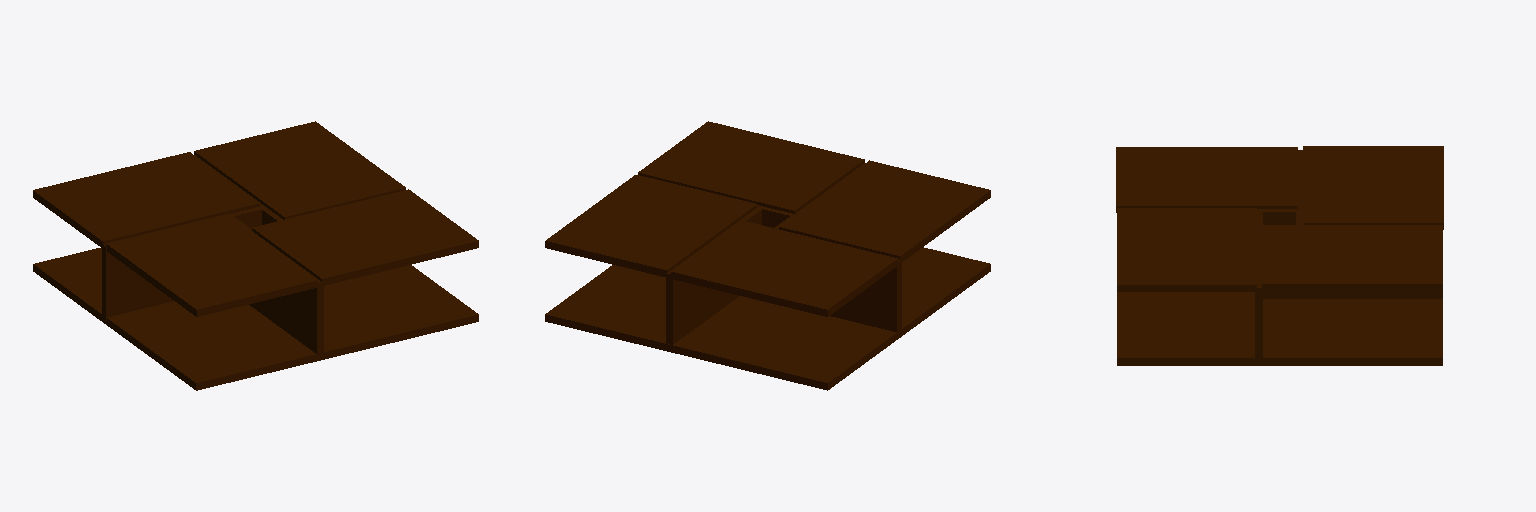
File: table.obj
3 renders of one model, left to right at view 1: azimuth 30°, elevation 25°; view 2: azimuth 150°, elevation 25°; view 3: azimuth 270°, elevation 25°, orthographic.
Parts seen in each view (by area): view 1: Cube.008; view 2: Cube.008; view 3: Cube.008.
Boxes of the visible parts, x1=… form: Cube.008: x1=33, y1=121, x2=478, y2=390; Cube.008: x1=545, y1=121, x2=990, y2=390; Cube.008: x1=1116, y1=146, x2=1443, y2=365.
Bounding box in the file's own units: 8.01 × 2.19 × 8.02.